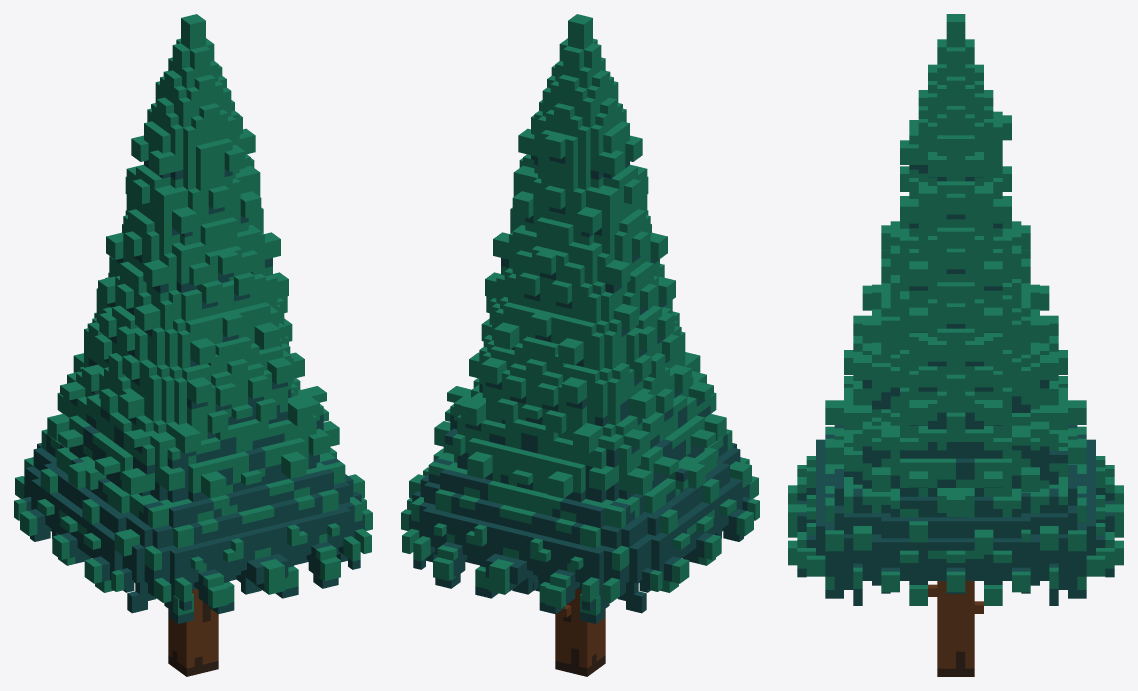
The model's file is PineTreeLg.fbx.
3 renders of one model, left to right at view 1: azimuth 30°, elevation 25°; view 2: azimuth 150°, elevation 25°; view 3: azimuth 270°, elevation 25°, orthographic.
Parts seen in each view (by area): view 1: PineTreeLg; view 2: PineTreeLg; view 3: PineTreeLg.
Part boxes in pixels (x1,y1,x2,y2): PineTreeLg: (14, 14, 372, 676); PineTreeLg: (401, 14, 759, 676); PineTreeLg: (788, 14, 1123, 676).
Size of the model in its own units: 340 by 770 by 360.
